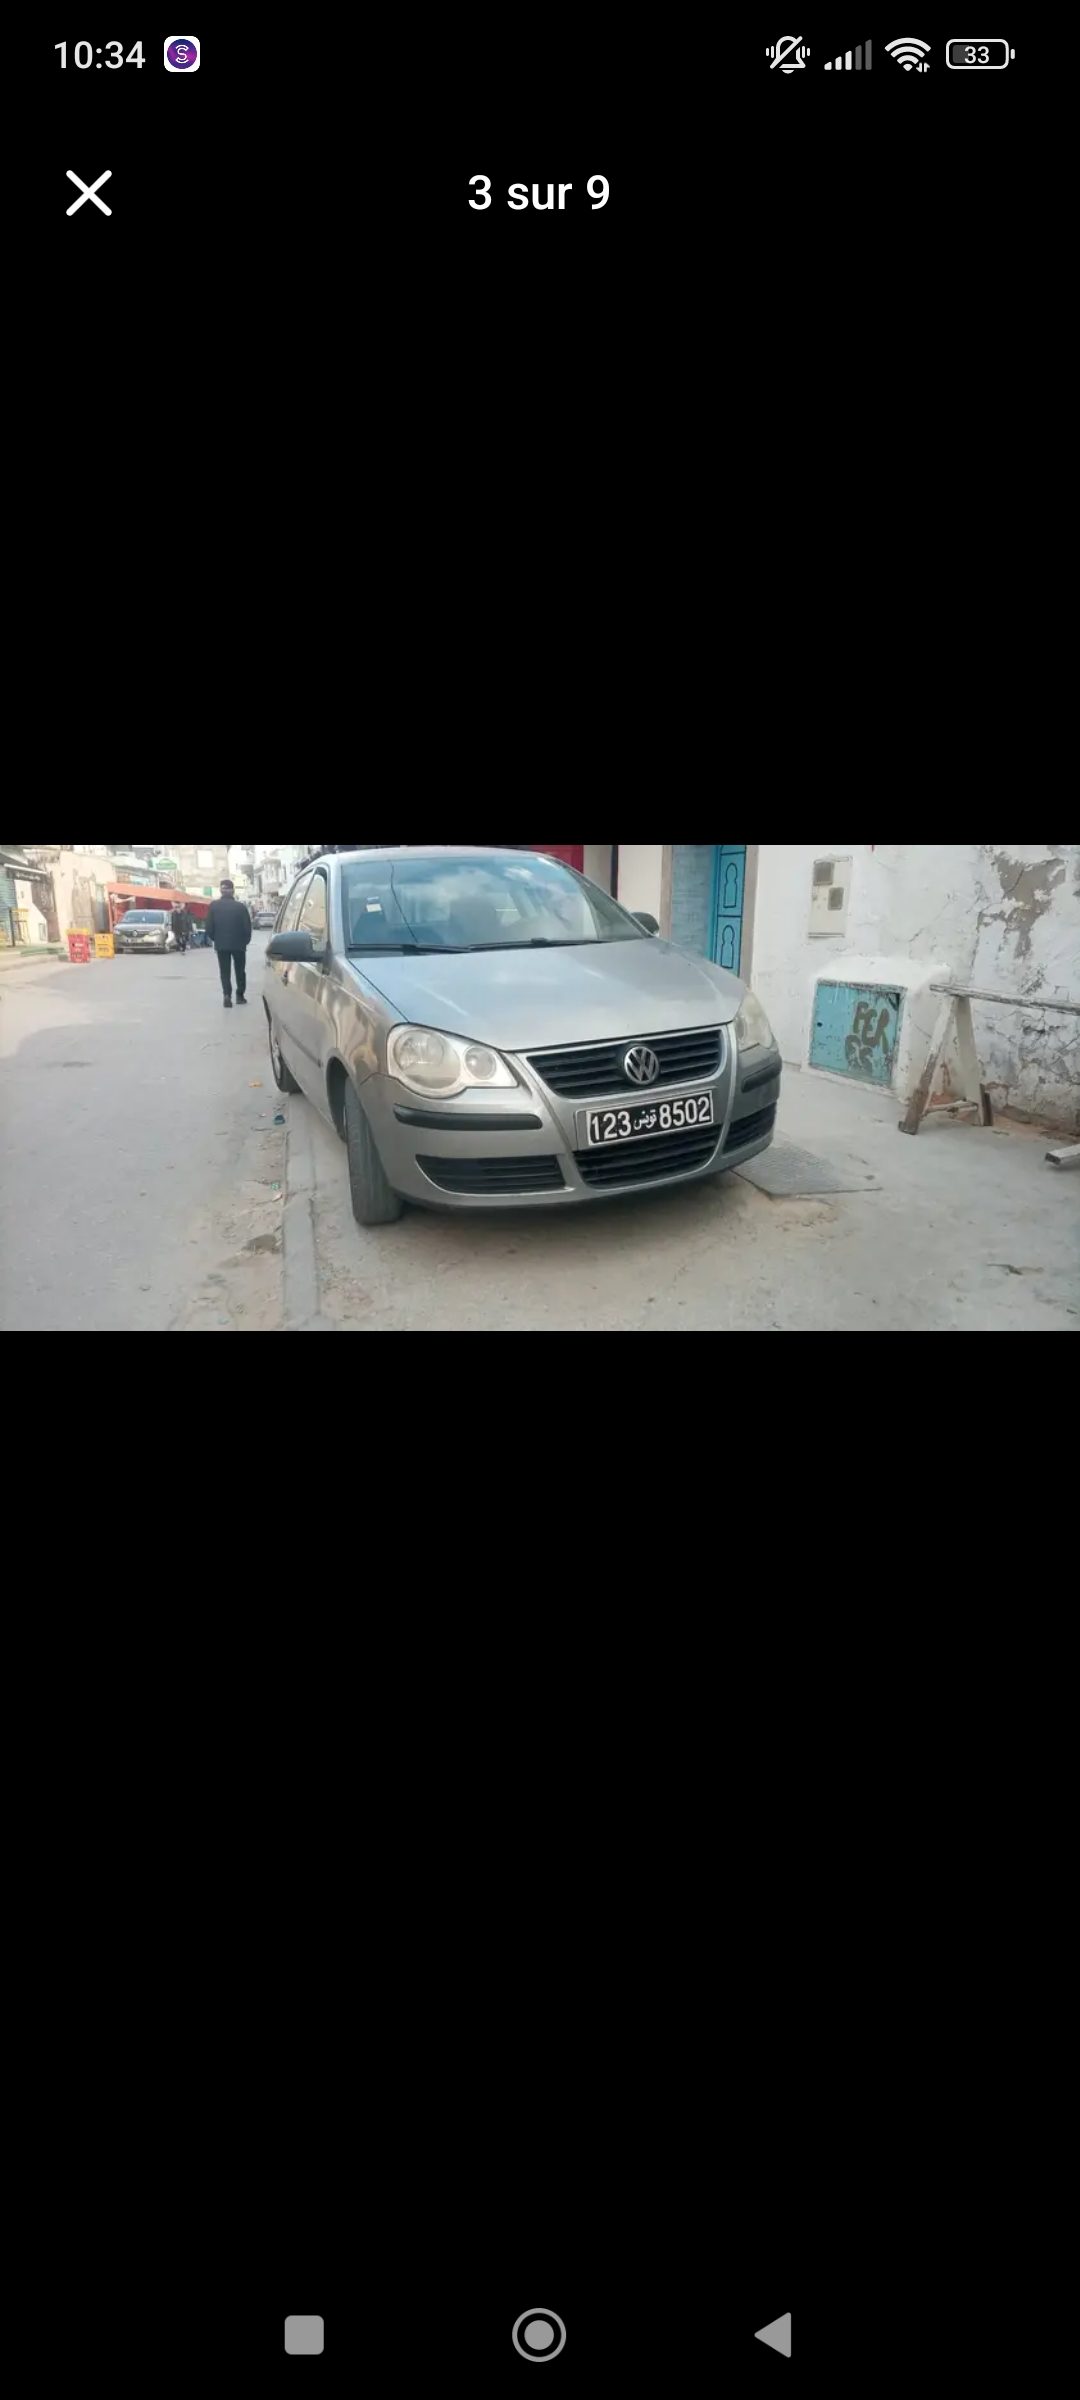audi: (96, 900, 181, 967)
peugoet: (246, 845, 812, 1231)
